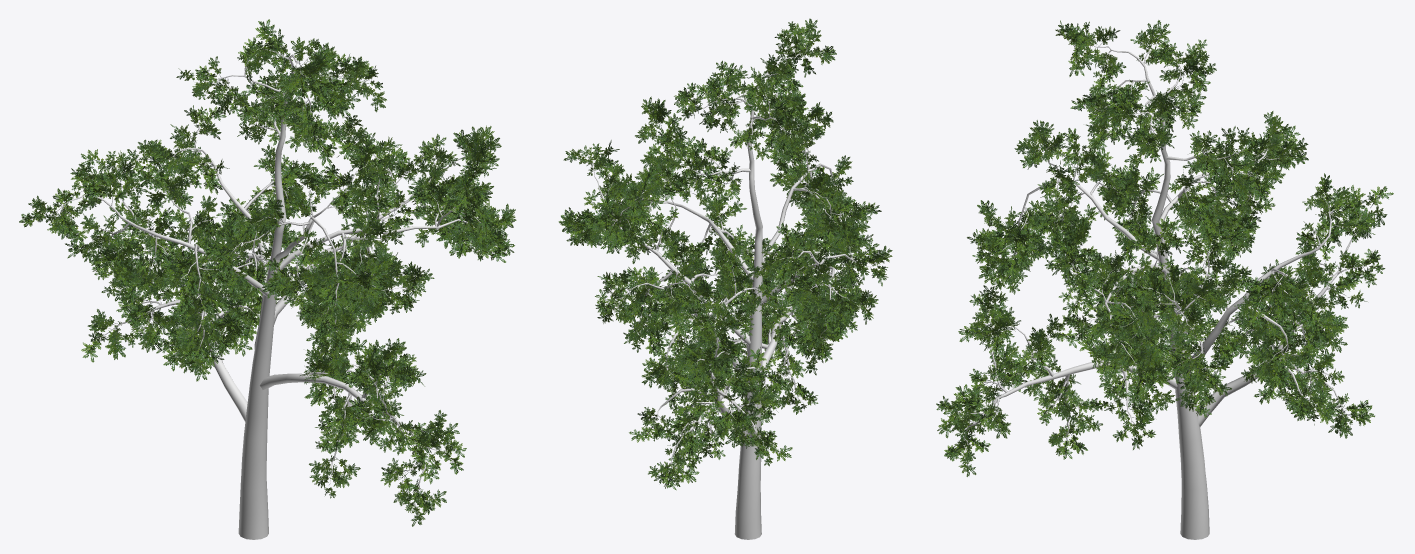
Rendered from oakTree1.fbx.
3 views of the same model, side by side, from view 1: azimuth 30°, elevation 25°; view 2: azimuth 150°, elevation 25°; view 3: azimuth 270°, elevation 25° (orthographic). The views are drawn at different scales.
Visible parts, largest first — view 1: Tree; view 2: Tree; view 3: Tree.
Part boxes in pixels (<box>): Tree: <box>19,19,516,539</box>; Tree: <box>558,18,892,539</box>; Tree: <box>936,20,1393,539</box>.
Size of the model in its own units: 1318 by 1551 by 1285.
2 materials, 1 textured.
